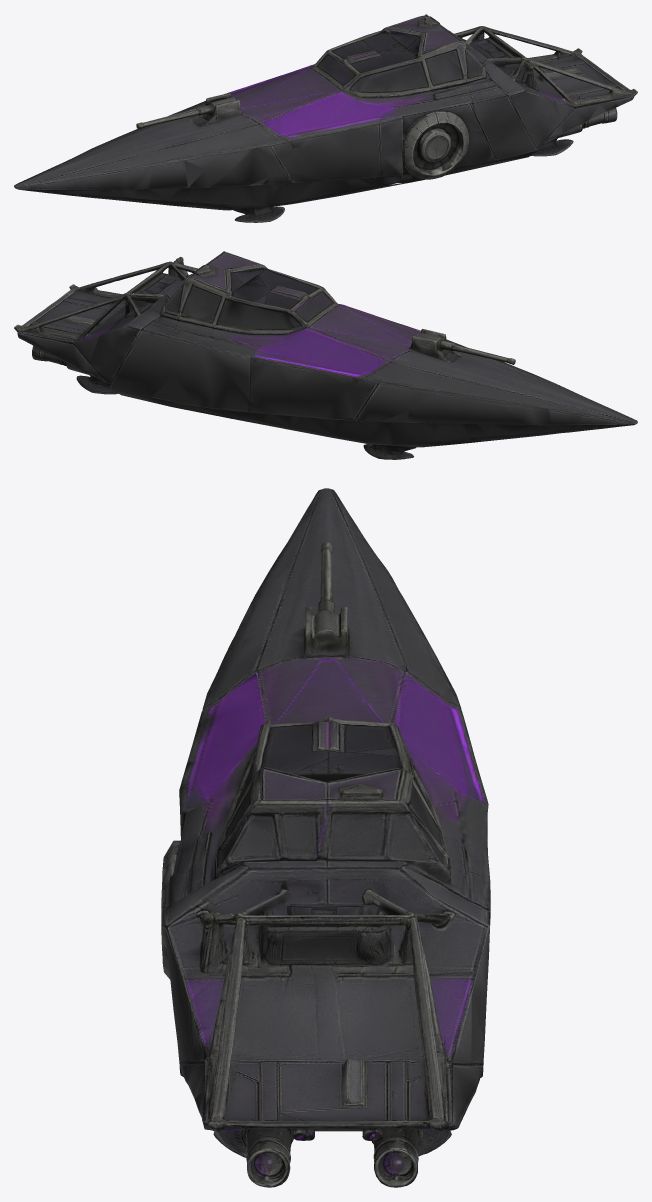
The model's file is scrap-skimmer.glb.
The picture shows the model from 3 angles, top to bottom: view 1: azimuth 30°, elevation 25°; view 2: azimuth 150°, elevation 25°; view 3: azimuth 270°, elevation 25°; orthographic projection. The views are drawn at different scales.
Visible parts, largest first — view 1: Hull; view 2: Hull; view 3: Hull.
Boxes of the visible parts, box(x1,y1,x2,y2) form: Hull: box(14, 14, 637, 222); Hull: box(14, 251, 637, 459); Hull: box(161, 488, 490, 1187).
Bounding box in the file's own units: 2 × 0.4216 × 0.4802.
1 material, 1 textured.
